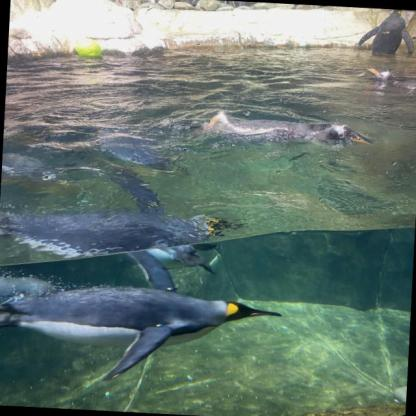penguin: (0, 243, 285, 392), (0, 200, 239, 274), (202, 111, 375, 153), (94, 161, 169, 215), (91, 126, 174, 172), (356, 8, 416, 58), (1, 152, 71, 188), (364, 66, 415, 96)
